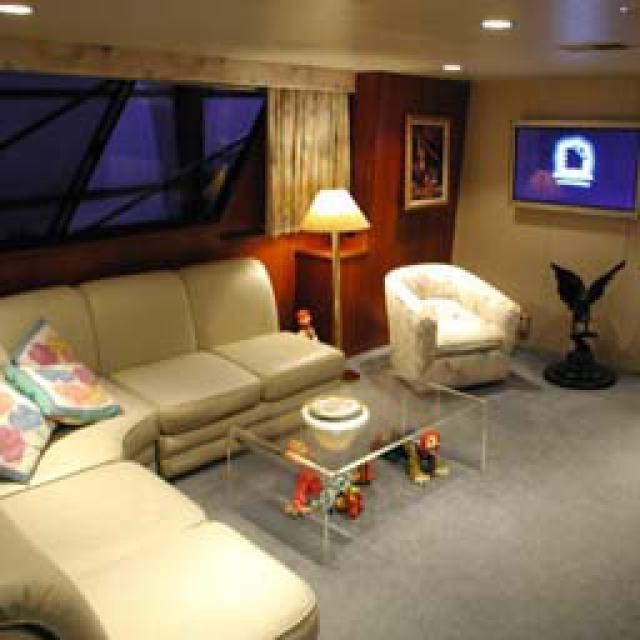2001: (565, 128, 638, 372)
armchair crop: (0, 460, 210, 635)
armchair occluded: (570, 458, 635, 608)
armchair of dentist: (328, 338, 395, 428)
ceiling beam: (25, 0, 635, 118)
fan lamp: (532, 302, 598, 488)
floor -X: (0, 402, 635, 635)
hairdryer: (178, 222, 240, 302), (240, 225, 292, 298)
lamp crop: (95, 22, 112, 45), (220, 80, 238, 100), (288, 112, 300, 128)
mirror crop: (80, 155, 145, 380)
picture crop: (485, 140, 530, 185)
shelves crop: (438, 218, 538, 485)
sign: (365, 148, 408, 175)
stand clothes: (25, 375, 150, 478)
swivel chair crop: (182, 388, 308, 542)
wall clock: (262, 100, 638, 472), (22, 18, 260, 525), (362, 178, 452, 410), (325, 180, 360, 425)
